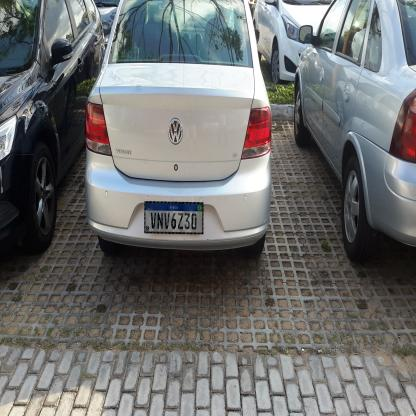PlacaM: (144, 201, 204, 234)
